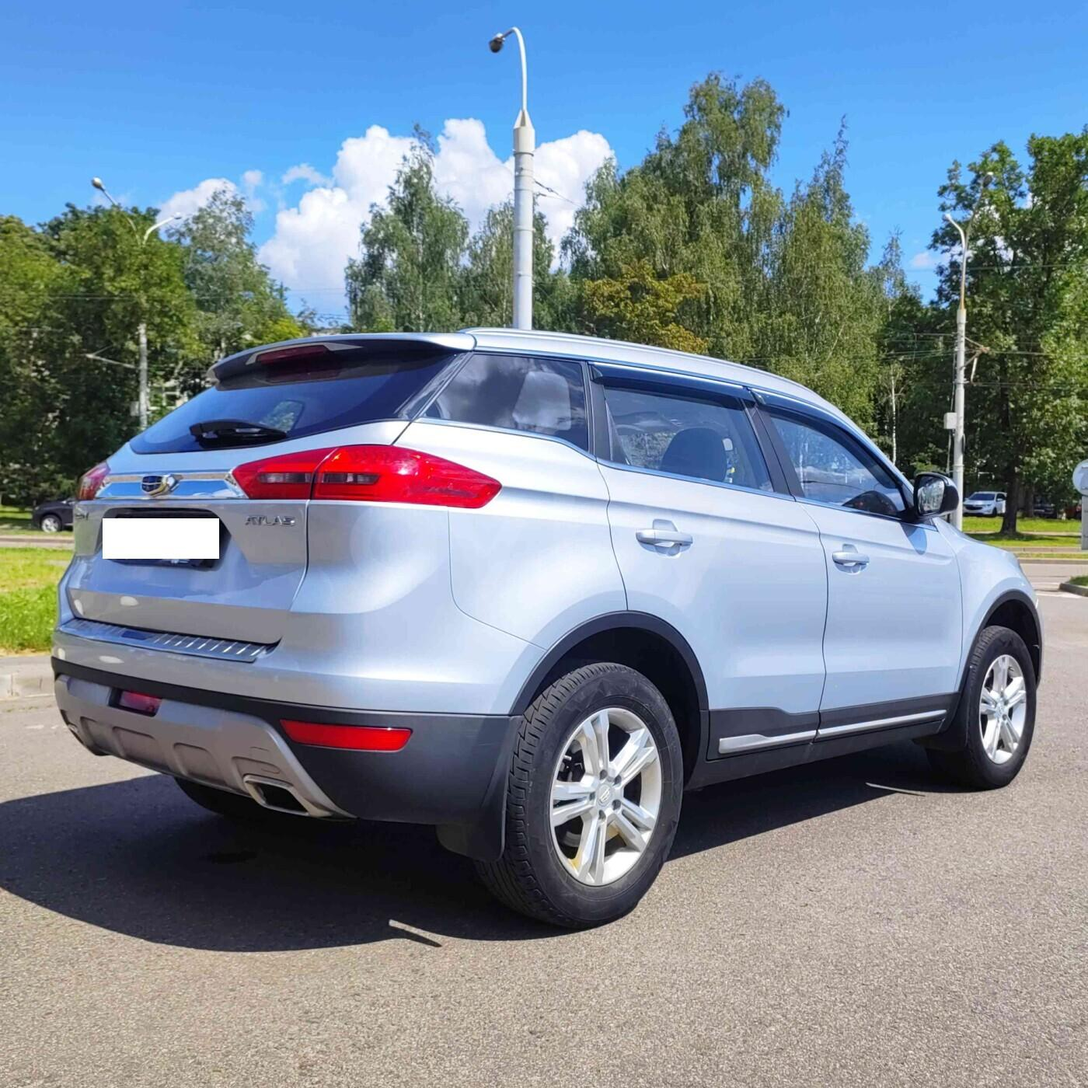Atlas_2016-2023: (51, 322, 1049, 956)
